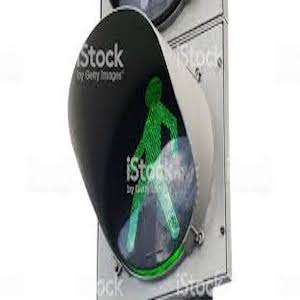green: (118, 79, 188, 263)
